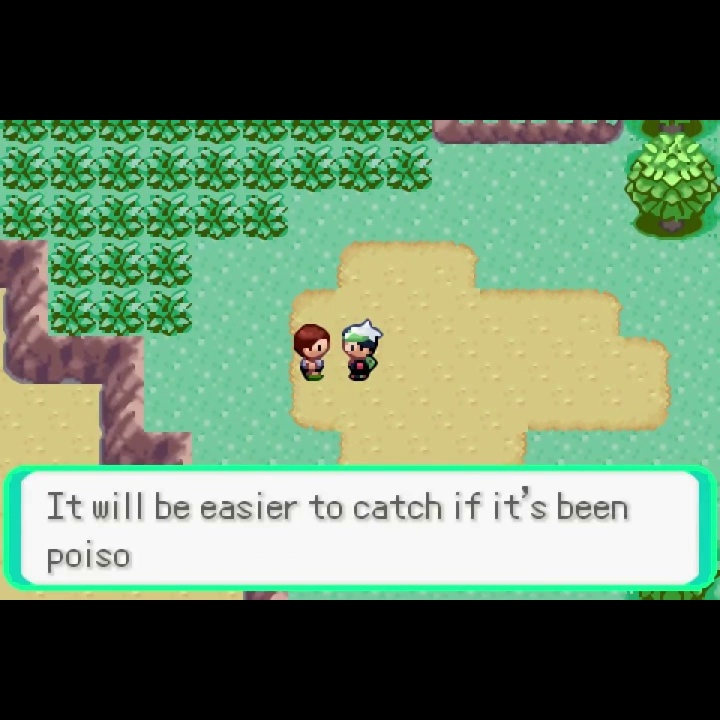grass: (49, 239, 99, 289), (238, 192, 289, 241), (385, 144, 434, 195), (145, 240, 195, 289), (145, 191, 194, 241), (335, 145, 384, 195), (1, 144, 50, 193), (98, 239, 146, 289), (145, 289, 196, 336), (96, 288, 147, 335), (97, 192, 146, 240), (289, 145, 337, 194), (48, 193, 98, 240), (49, 144, 96, 194), (49, 287, 97, 335), (97, 144, 145, 192), (193, 191, 240, 240), (1, 192, 48, 240), (240, 145, 288, 192), (144, 145, 192, 191), (193, 145, 239, 191), (336, 120, 386, 145), (193, 120, 241, 146), (145, 120, 194, 145), (385, 121, 433, 146), (288, 121, 338, 145), (239, 121, 289, 145), (1, 120, 51, 144), (97, 121, 146, 145), (50, 121, 98, 145)
npc: (336, 316, 383, 383), (288, 323, 331, 383)
wall: (623, 138, 720, 241), (624, 119, 720, 141)
